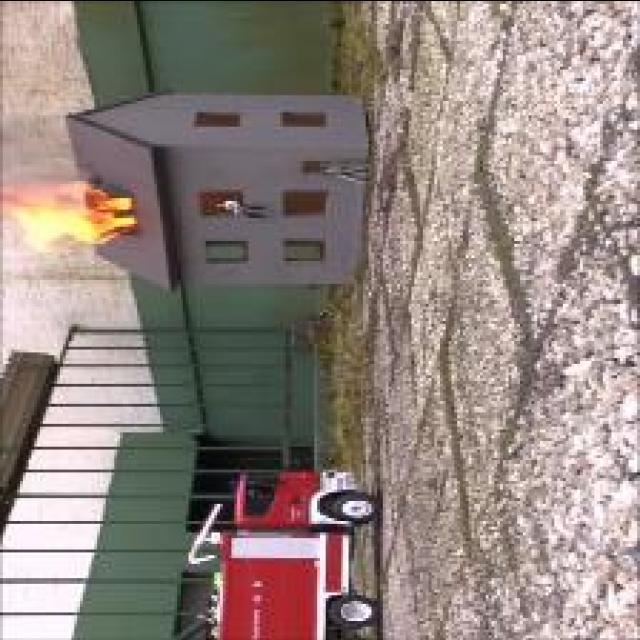Fire: (2, 178, 134, 250)
